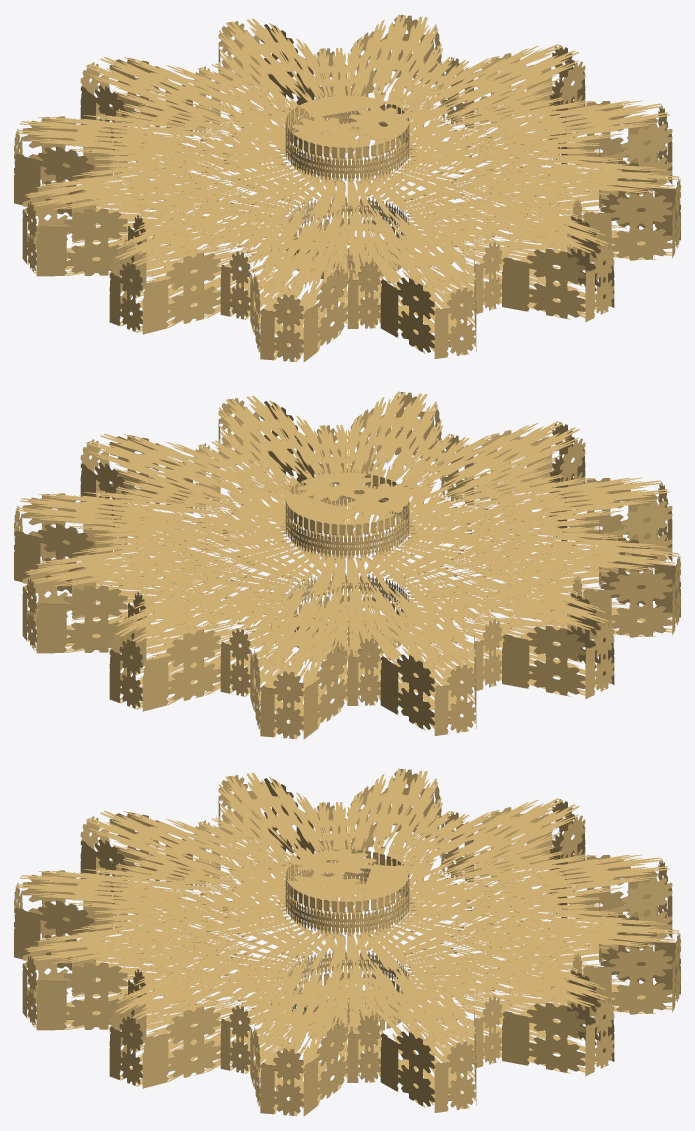
The model's file is CogModel.obj.
3 views of the same model, one above another, from view 1: azimuth 30°, elevation 25°; view 2: azimuth 150°, elevation 25°; view 3: azimuth 270°, elevation 25° (orthographic).
Visible parts, largest first — view 1: Cylinder001; view 2: Cylinder001; view 3: Cylinder001.
Part boxes in pixels (x1,y1,x2,y2): Cylinder001: (14, 14, 680, 362); Cylinder001: (14, 391, 680, 739); Cylinder001: (14, 768, 680, 1116).
Size of the model in its own units: 1.13 by 0.25 by 1.13.
Materials: 1 (1 with a texture image).
